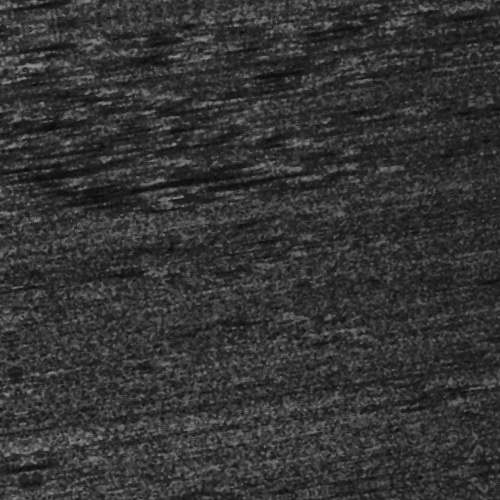object: (0, 401, 80, 456), (117, 140, 210, 149), (262, 161, 325, 174), (131, 163, 184, 170), (137, 181, 200, 186), (104, 92, 135, 97)
shadow: (110, 161, 293, 174), (0, 401, 39, 456), (51, 140, 164, 149), (101, 163, 157, 170), (112, 181, 168, 186), (100, 92, 119, 97)
